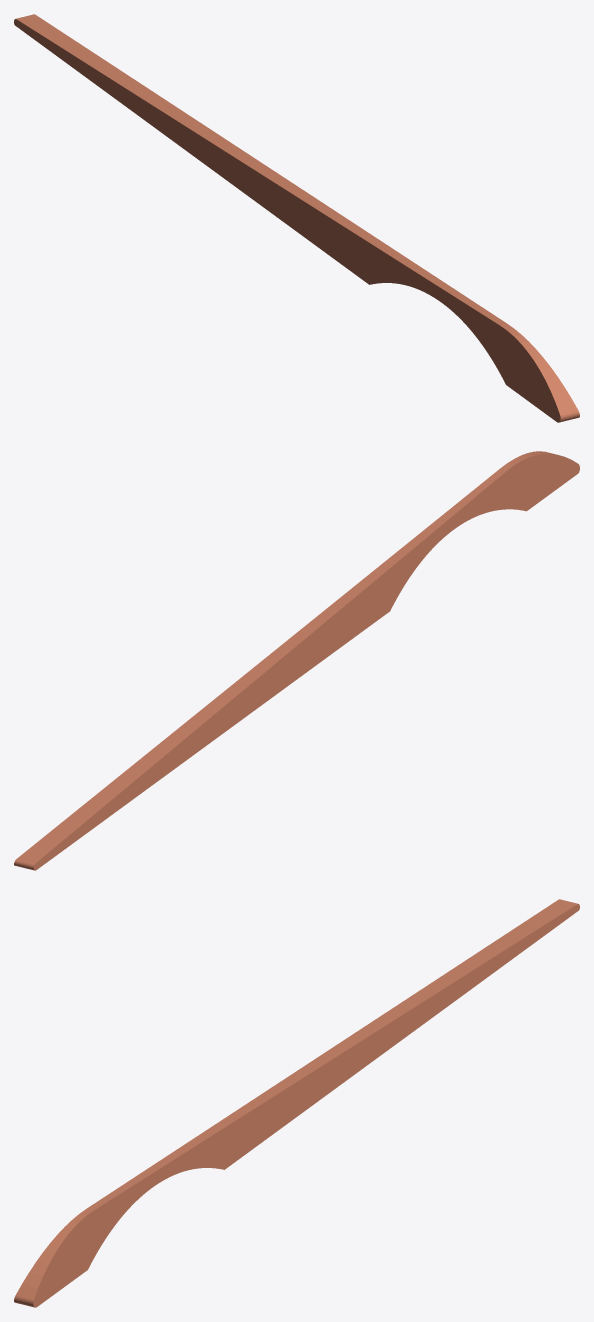
Rendered from 191 pvd r gold.glb.
The picture shows the model from 3 angles, top to bottom: view 1: azimuth 30°, elevation 25°; view 2: azimuth 150°, elevation 25°; view 3: azimuth 330°, elevation 25°; orthographic projection.
Parts seen in each view (by area): view 1: CABINET_HANDLE_191; view 2: CABINET_HANDLE_191; view 3: CABINET_HANDLE_191.
Part boxes in pixels (bbox=[...]): CABINET_HANDLE_191: bbox=[14, 14, 579, 422]; CABINET_HANDLE_191: bbox=[14, 451, 579, 870]; CABINET_HANDLE_191: bbox=[14, 899, 579, 1307].
Size of the model in its own units: 0.00766 by 0.0172 by 0.35.
